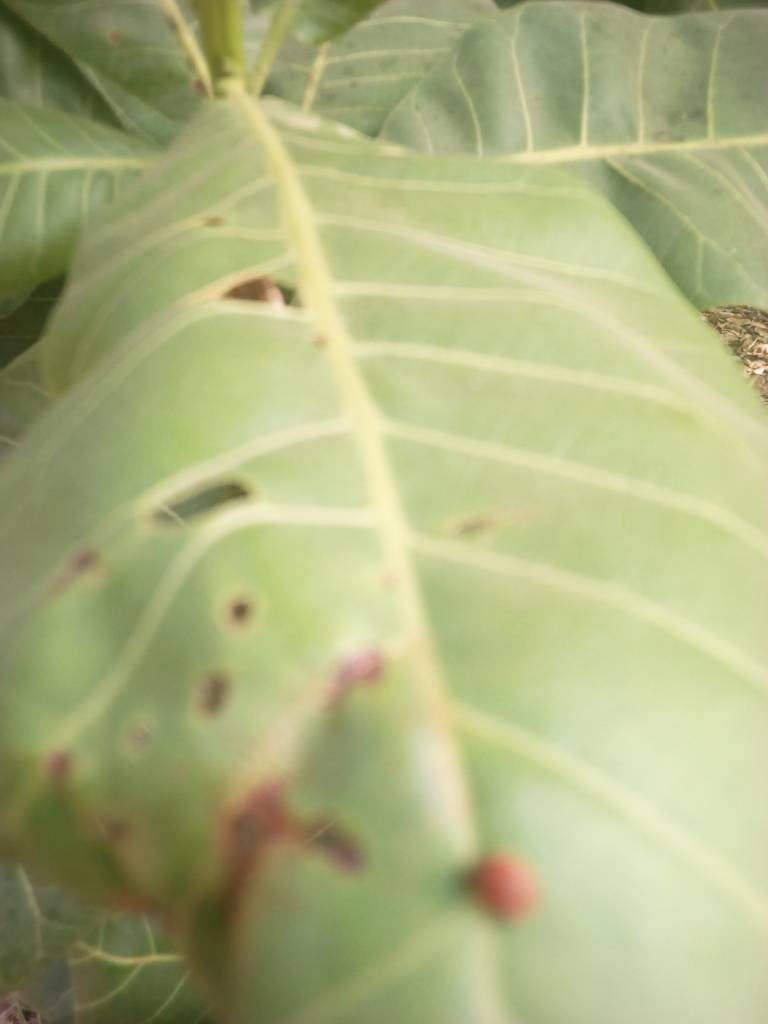Anoplocnemis curvipes: (38, 249, 510, 897)
